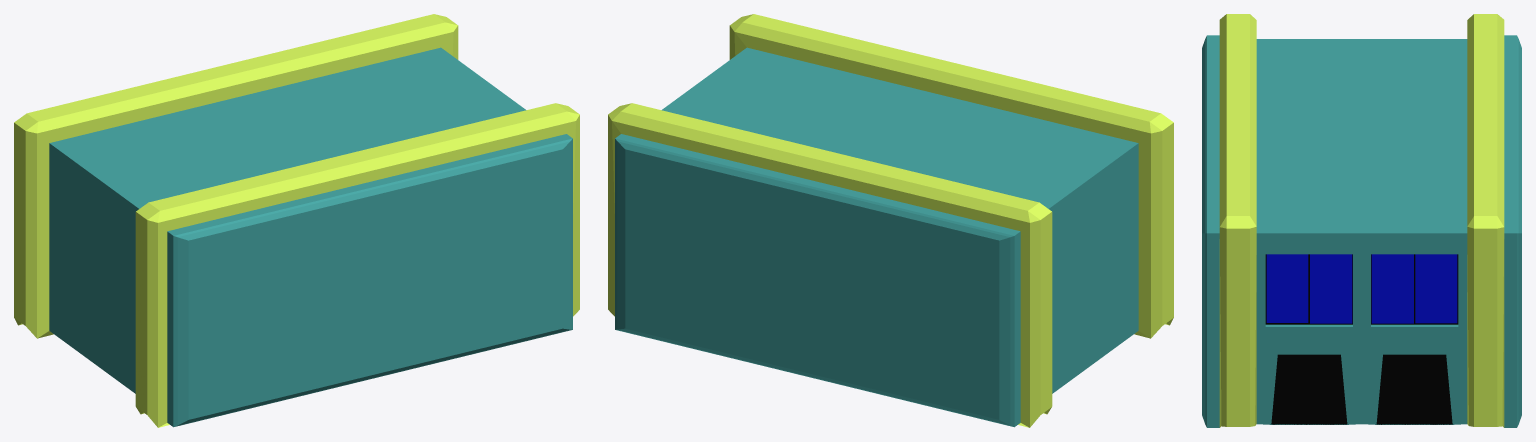
File: House2.fbx
The picture shows the model from 3 angles, left to right: view 1: azimuth 30°, elevation 25°; view 2: azimuth 150°, elevation 25°; view 3: azimuth 270°, elevation 25°; orthographic projection.
Visible parts, largest first — view 1: Object; view 2: Object; view 3: Object.
Part boxes in pixels (bbox=[...]): Object: bbox=[14, 14, 579, 427]; Object: bbox=[608, 14, 1173, 427]; Object: bbox=[1202, 14, 1521, 427].
Size of the model in its own units: 1148 by 541 by 723.
